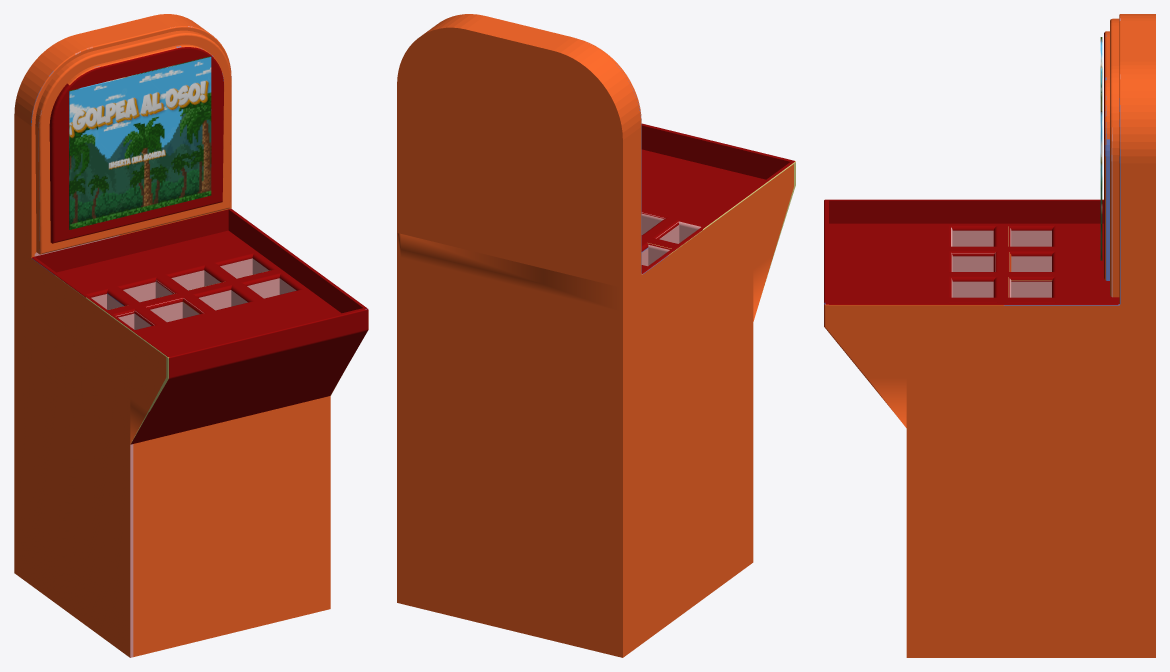
File: golpea_topo.obj
3 renders of one model, left to right at view 1: azimuth 30°, elevation 25°; view 2: azimuth 150°, elevation 25°; view 3: azimuth 270°, elevation 25°, orthographic. The views are drawn at different scales.
Parts seen in each view (by area): view 1: Cube; view 2: Cube; view 3: Cube.
Boxes of the visible parts, x1,y1,x2,y2 form: Cube: [14, 14, 368, 657]; Cube: [397, 14, 795, 657]; Cube: [824, 14, 1155, 657].
Bounding box in the file's own units: 2 × 4.99 × 2.66.
2 materials, 2 textured.
